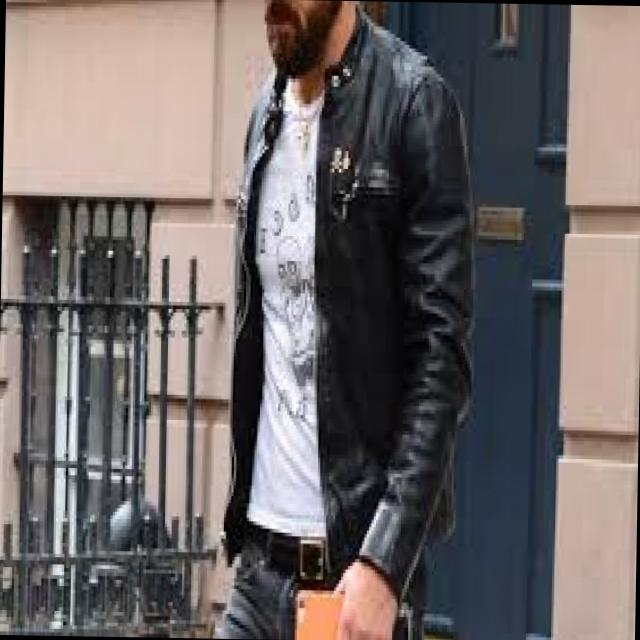Jacket: (173, 13, 508, 560)
